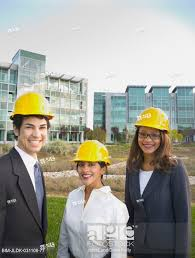Person_wearing_helmet: (10, 83, 52, 133), (67, 132, 115, 169), (130, 103, 169, 145)
